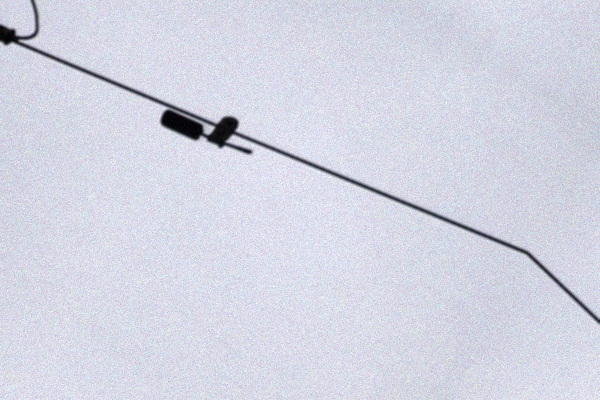damper_defect: (157, 107, 256, 158)
